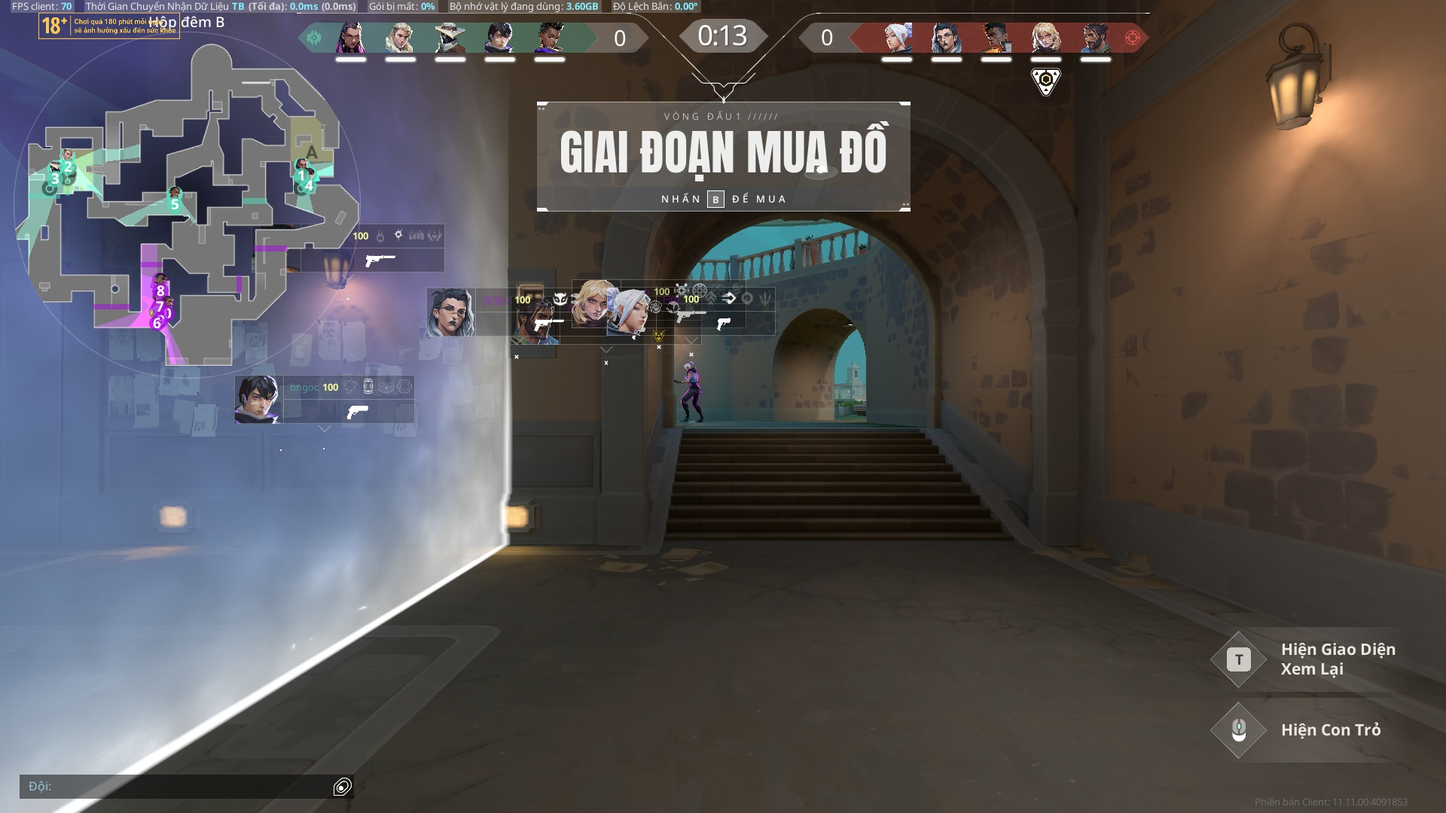body: (685, 370, 701, 384)
head: (683, 363, 692, 370)
